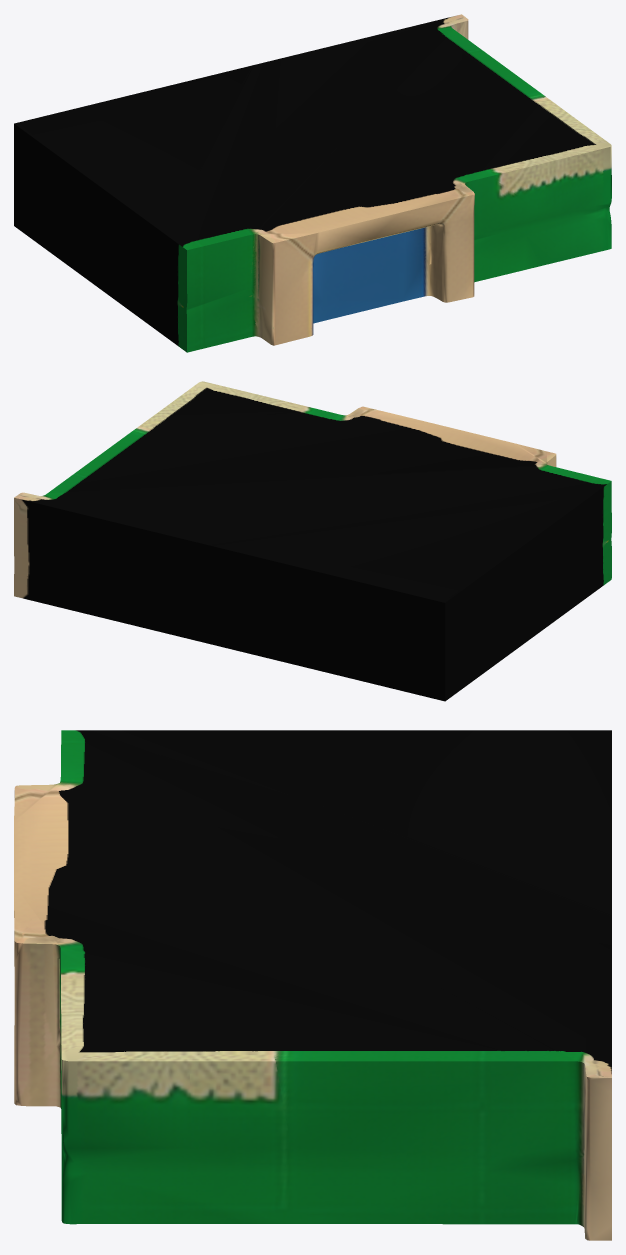
Rendered from 10-roof-front-right.fbx.
3 views of the same model, one above another, from view 1: azimuth 30°, elevation 25°; view 2: azimuth 150°, elevation 25°; view 3: azimuth 270°, elevation 25° (orthographic). The views are drawn at different scales.
Parts seen in each view (by area): view 1: roof-front-right; view 2: roof-front-right; view 3: roof-front-right.
Boxes of the visible parts, bbox=[...] form: roof-front-right: bbox=[14, 14, 611, 352]; roof-front-right: bbox=[14, 381, 611, 701]; roof-front-right: bbox=[14, 730, 611, 1240].
Bounding box in the file's own units: 3730 × 815 × 2711.
Materials: 1 (1 with a texture image).
